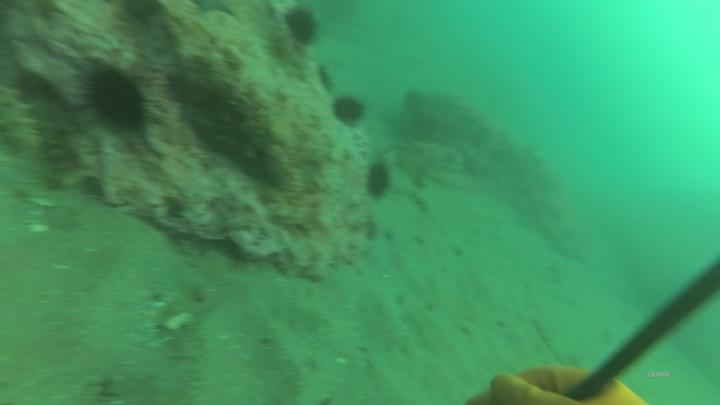echinus: (70, 56, 166, 143), (282, 6, 325, 47), (331, 94, 372, 130), (368, 157, 396, 204), (122, 5, 172, 24)
holothurian: (1, 82, 48, 158)
starfish: (191, 1, 240, 19)
